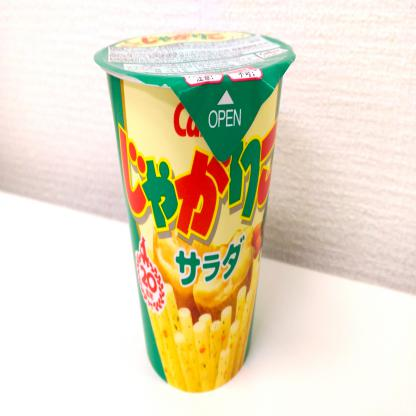potatochip: (93, 21, 298, 380)
